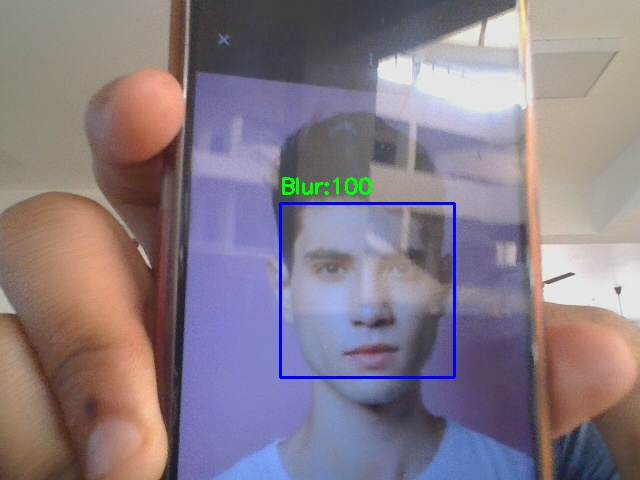fake: (280, 203, 454, 377)
